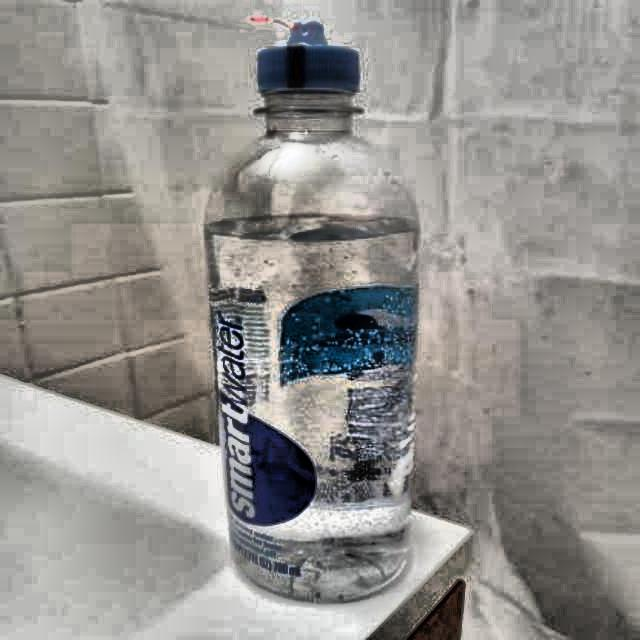Bottles: (199, 29, 432, 612)
